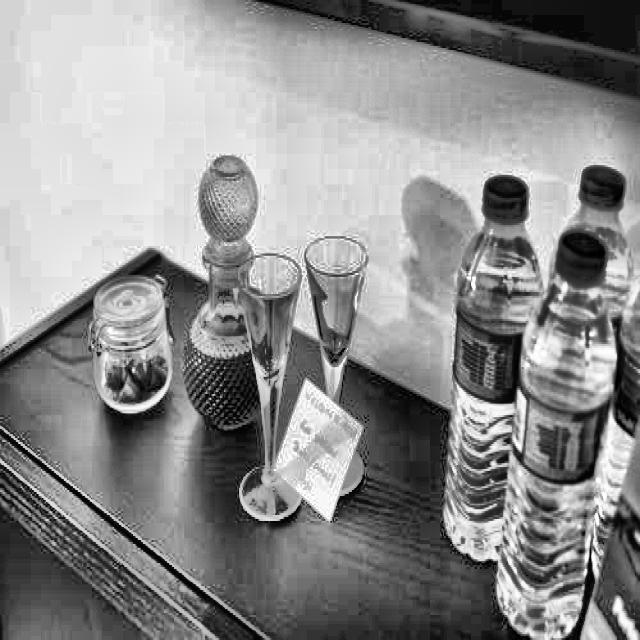waterbottle: (490, 221, 621, 640), (433, 165, 555, 576), (538, 150, 630, 598), (584, 225, 640, 613), (484, 574, 484, 581)
